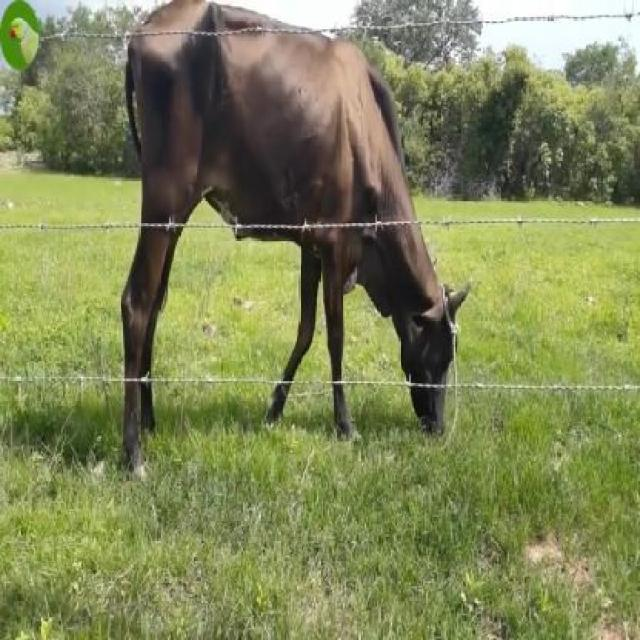Cow: (117, 0, 469, 503)
